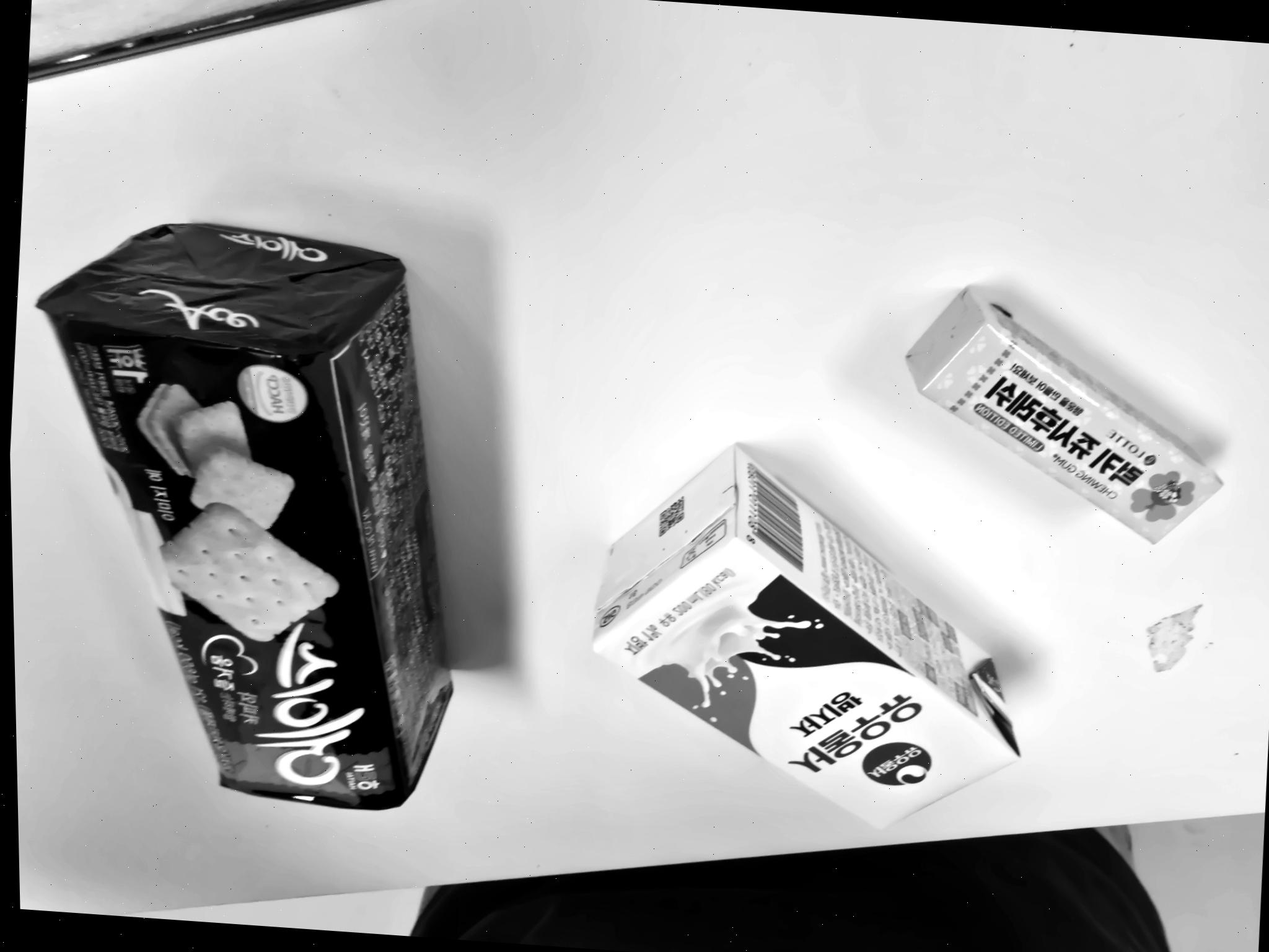cracker_ace: (38, 224, 452, 809)
gum_yellow: (907, 288, 1223, 543)
milk_blue: (591, 445, 1020, 826)
